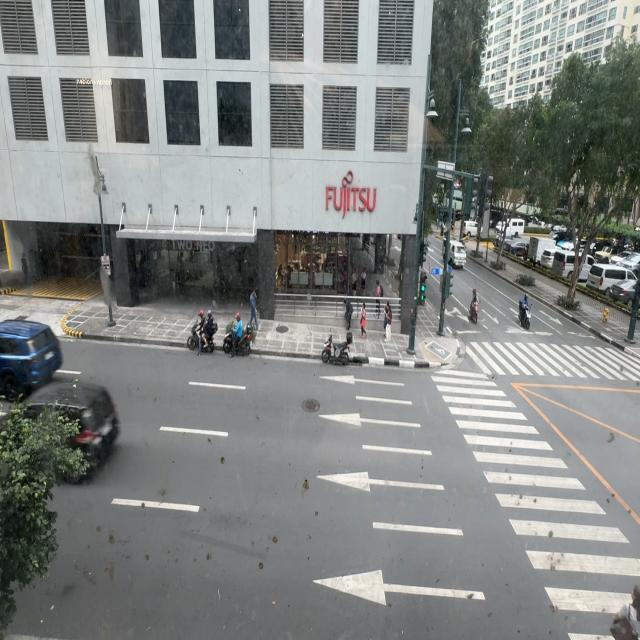crossing: (609, 561, 640, 638)
pedestrain: (248, 288, 261, 332), (357, 304, 370, 342), (342, 298, 355, 330), (384, 303, 392, 342)
